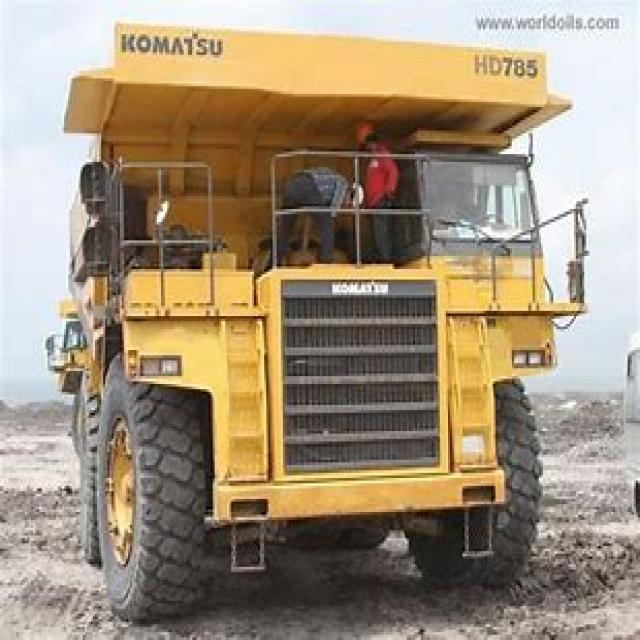dump_truck: (33, 13, 584, 622)
